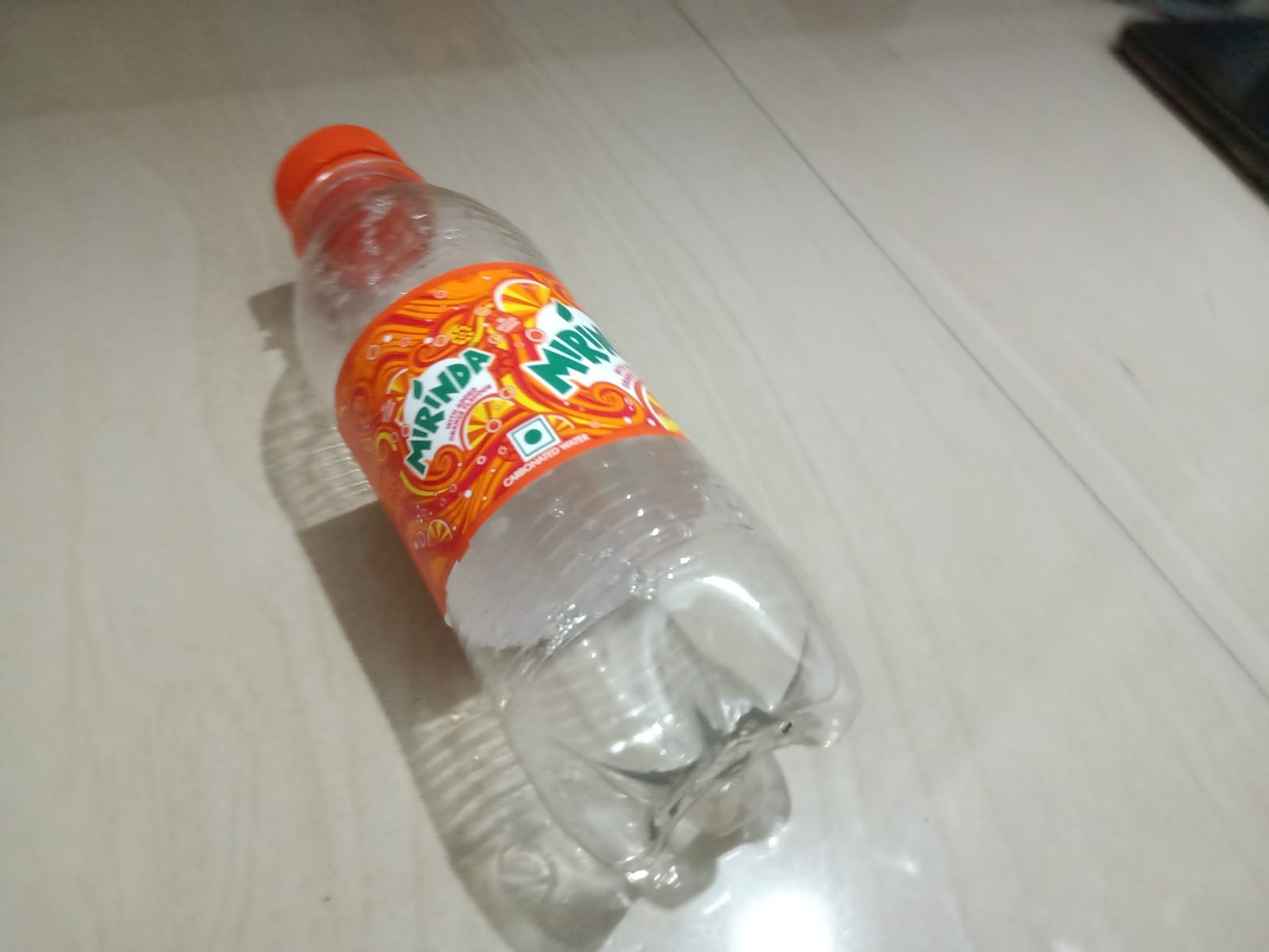plastic: (175, 115, 891, 952)
